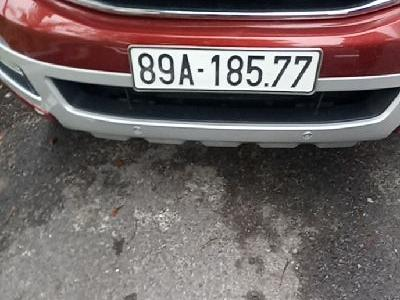lisence: (127, 44, 323, 96)
